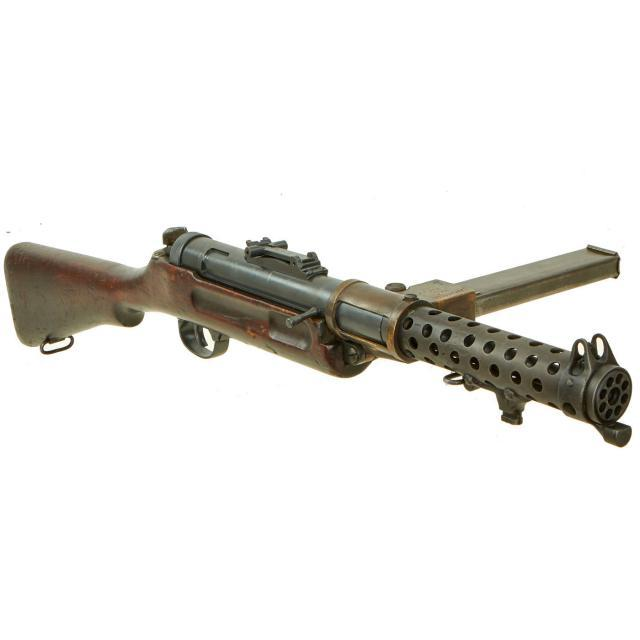rifle: (6, 200, 631, 507)
